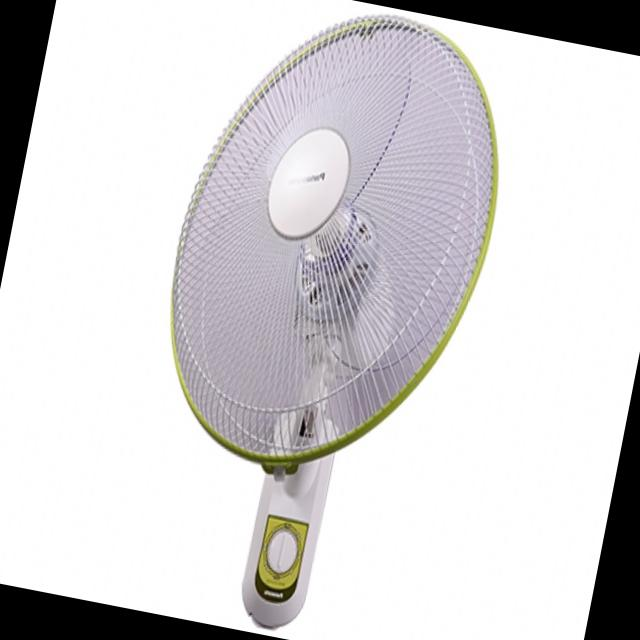fan: (99, 0, 540, 640)
